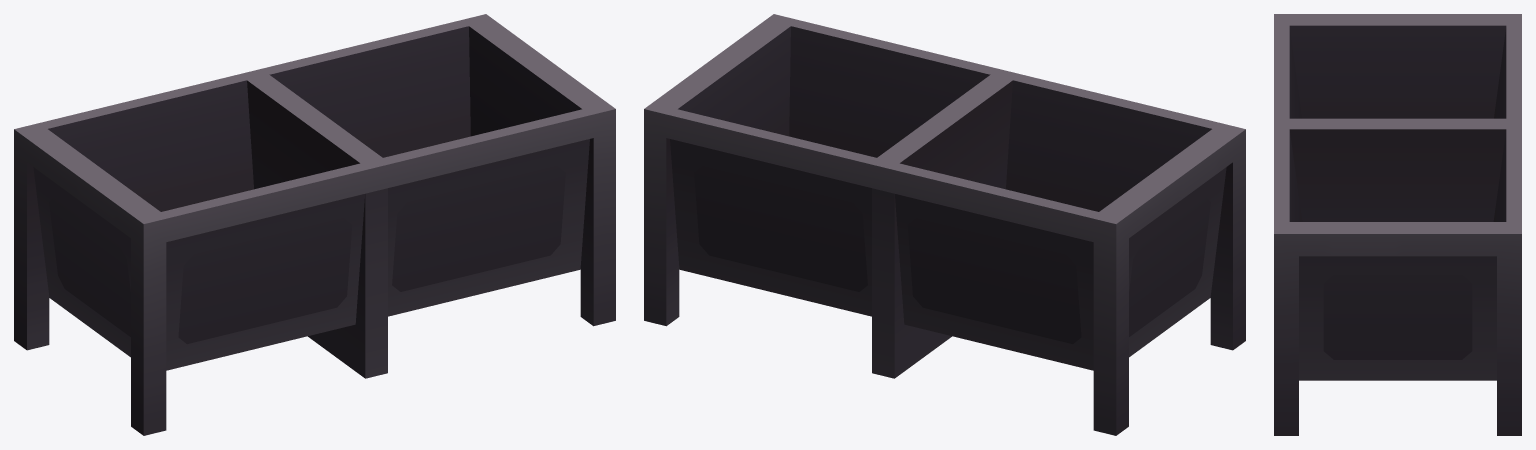
The model's file is Trash_Container_2B.fbx.
The picture shows the model from 3 angles, left to right: view 1: azimuth 30°, elevation 25°; view 2: azimuth 150°, elevation 25°; view 3: azimuth 270°, elevation 25°; orthographic projection. The views are drawn at different scales.
Parts seen in each view (by area): view 1: Trash_Container_2B; view 2: Trash_Container_2B; view 3: Trash_Container_2B.
Boxes of the visible parts, <box> form: Trash_Container_2B: <box>14,14,615,435</box>; Trash_Container_2B: <box>644,14,1245,435</box>; Trash_Container_2B: <box>1274,14,1521,435</box>.
Size of the model in its own units: 420 by 180 by 200.
